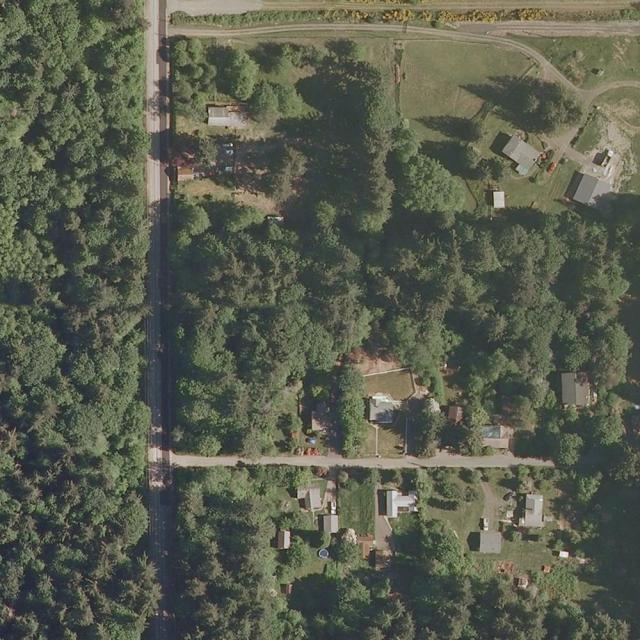building: (563, 170, 612, 211), (497, 134, 540, 176), (377, 488, 418, 518), (205, 102, 247, 129), (368, 392, 402, 424), (561, 371, 590, 406), (294, 483, 323, 515), (518, 493, 545, 527), (466, 530, 503, 553), (481, 425, 514, 449), (317, 514, 339, 533), (447, 405, 464, 423), (176, 166, 195, 182), (491, 190, 505, 209), (278, 530, 291, 549)
greenland: (165, 38, 640, 463), (176, 469, 305, 639), (166, 36, 324, 128), (540, 438, 640, 550), (401, 39, 532, 119), (170, 4, 549, 28), (462, 72, 585, 137), (330, 363, 365, 458), (338, 469, 380, 535), (458, 137, 514, 185), (248, 465, 313, 496), (570, 7, 640, 21), (471, 115, 486, 134)
metalled_road: (141, 0, 175, 640), (142, 0, 174, 640)
unmetalled_road: (171, 452, 550, 469), (170, 21, 404, 39), (455, 19, 640, 38)
